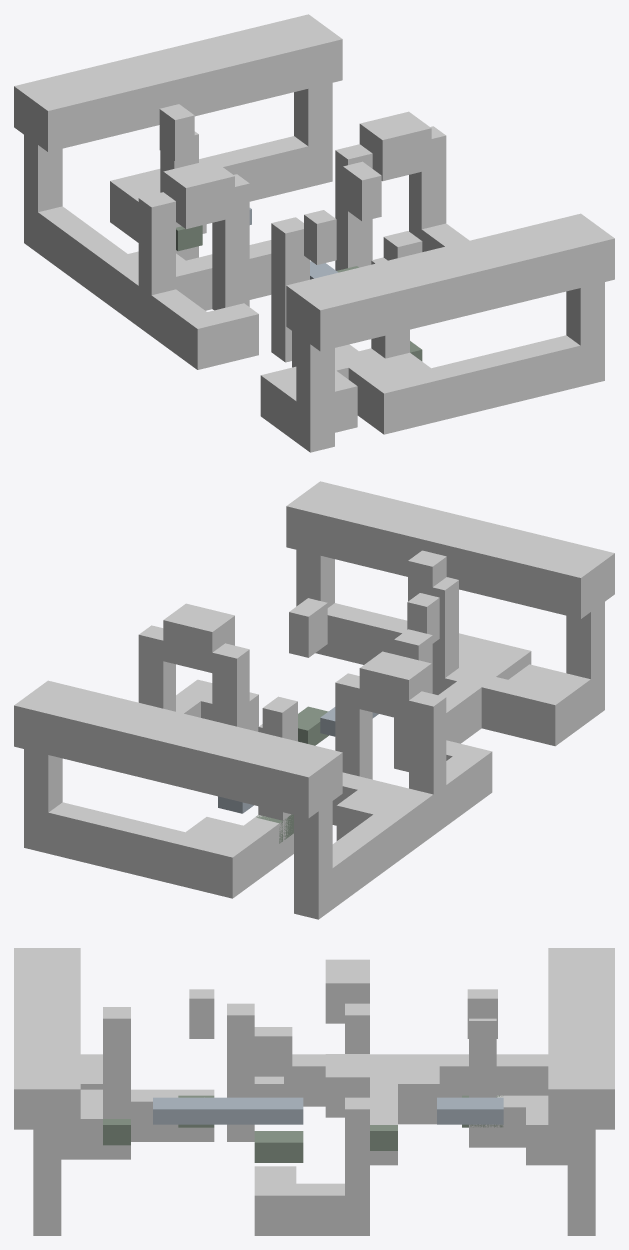
File: board.glb
3 views of the same model, one above another, from view 1: azimuth 30°, elevation 25°; view 2: azimuth 150°, elevation 25°; view 3: azimuth 270°, elevation 25° (orthographic).
Visible parts, largest first — view 1: Unified_Net_3_Contour_0, Unified_Net_4_Contour_1, Unified_Net_1_Contour_0, Unified_Net_4_Contour_0 (×2), Unified_Net_2_Contour_1, Unified_Net_2_Contour_0, Unified_Net_1_Contour_1, Unified_Net_3_Contour_3, Unified_Net_3_Contour_1, Unified_Net_4_Contour_2, Unified_Net_3_Contour_2; view 2: Unified_Net_4_Contour_1, Unified_Net_3_Contour_0, Unified_Net_4_Contour_0, Unified_Net_1_Contour_0, Unified_Net_2_Contour_0 (×2), Unified_Net_2_Contour_1, Unified_Net_3_Contour_2, Unified_Net_3_Contour_1, Unified_Net_1_Contour_1, Unified_Net_4_Contour_2, Unified_Net_3_Contour_3; view 3: Unified_Net_3_Contour_0 (×2), Unified_Net_4_Contour_1, Unified_Net_4_Contour_0 (×2), Unified_Net_2_Contour_0 (×2), Unified_Net_1_Contour_0 (×2), Unified_Net_2_Contour_1, Unified_Net_3_Contour_1, Unified_Net_4_Contour_2, Unified_Net_3_Contour_2, Unified_Net_3_Contour_3, Unified_Net_1_Contour_1 (×2).
Boxes of the visible parts, x1,y1,x2,y2 form: Unified_Net_3_Contour_0: [260, 213, 614, 452]; Unified_Net_4_Contour_1: [14, 14, 342, 260]; Unified_Net_1_Contour_0: [138, 159, 258, 369]; Unified_Net_4_Contour_0 (×2): [24, 104, 271, 326]; Unified_Net_2_Contour_1: [336, 111, 446, 270]; Unified_Net_2_Contour_0: [335, 144, 469, 270]; Unified_Net_1_Contour_1: [212, 174, 249, 310]; Unified_Net_3_Contour_3: [271, 217, 309, 362]; Unified_Net_3_Contour_1: [383, 231, 604, 385]; Unified_Net_4_Contour_2: [294, 83, 332, 187]; Unified_Net_3_Contour_2: [304, 210, 409, 358]; Unified_Net_4_Contour_1: [14, 680, 342, 919]; Unified_Net_3_Contour_0: [286, 481, 614, 746]; Unified_Net_4_Contour_0: [258, 696, 433, 918]; Unified_Net_1_Contour_0: [359, 651, 492, 834]; Unified_Net_2_Contour_0 (×2): [176, 598, 328, 745]; Unified_Net_2_Contour_1: [138, 603, 234, 711]; Unified_Net_3_Contour_2: [407, 577, 458, 694]; Unified_Net_3_Contour_1: [296, 550, 446, 607]; Unified_Net_1_Contour_1: [335, 673, 372, 779]; Unified_Net_4_Contour_2: [24, 749, 62, 853]; Unified_Net_3_Contour_3: [394, 629, 432, 771]; Unified_Net_3_Contour_0 (×2): [14, 948, 214, 1235]; Unified_Net_4_Contour_1: [469, 948, 614, 1235]; Unified_Net_4_Contour_0 (×2): [370, 989, 548, 1165]; Unified_Net_2_Contour_0 (×2): [254, 1027, 369, 1235]; Unified_Net_1_Contour_0 (×2): [153, 959, 369, 1124]; Unified_Net_2_Contour_1: [325, 1054, 369, 1235]; Unified_Net_3_Contour_1: [33, 1007, 130, 1235]; Unified_Net_4_Contour_2: [567, 1109, 595, 1235]; Unified_Net_3_Contour_2: [103, 989, 214, 1159]; Unified_Net_3_Contour_3: [227, 1003, 254, 1141]; Unified_Net_1_Contour_1 (×2): [345, 1003, 503, 1124].
Bounding box in the file's own units: 3e-06 × 1.45e-06 × 5.4e-06.
